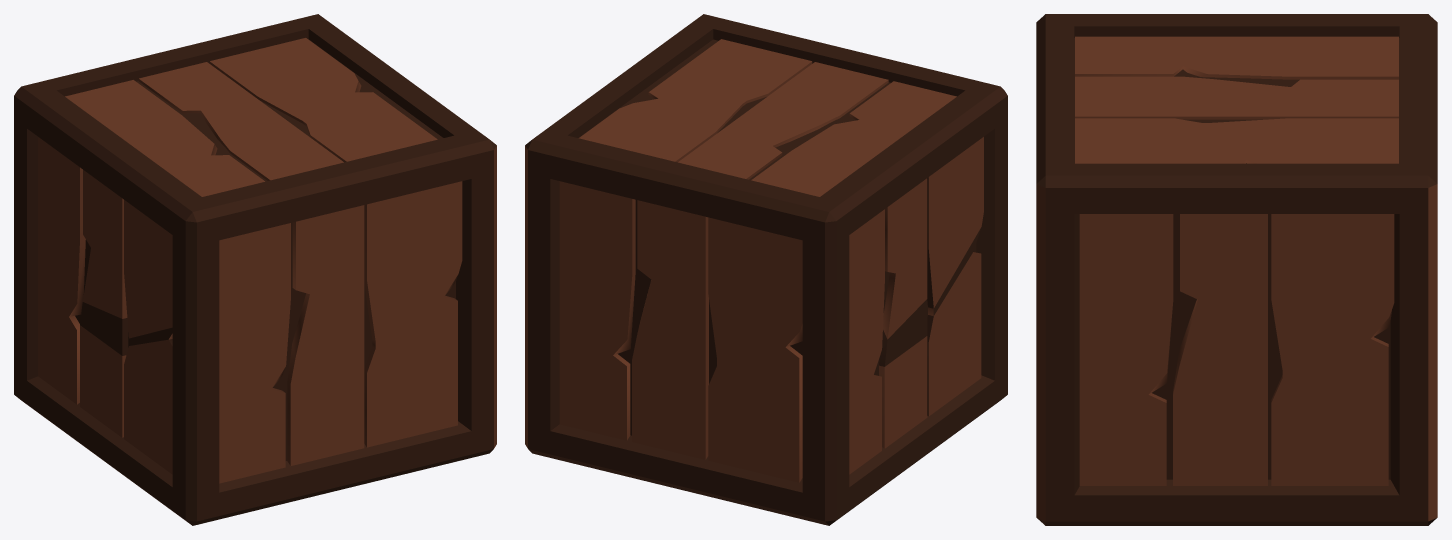
Rendered from SM_crate_wooden_01.fbx.
3 renders of one model, left to right at view 1: azimuth 30°, elevation 25°; view 2: azimuth 150°, elevation 25°; view 3: azimuth 270°, elevation 25°, orthographic. The views are drawn at different scales.
Parts seen in each view (by area): view 1: Box026; view 2: Box026; view 3: Box026.
Part boxes in pixels (x1,y1,x2,y2): Box026: [14, 14, 496, 525]; Box026: [525, 14, 1007, 525]; Box026: [1036, 14, 1437, 525].
Bounding box in the file's own units: 26.68 × 25.71 × 26.68.
